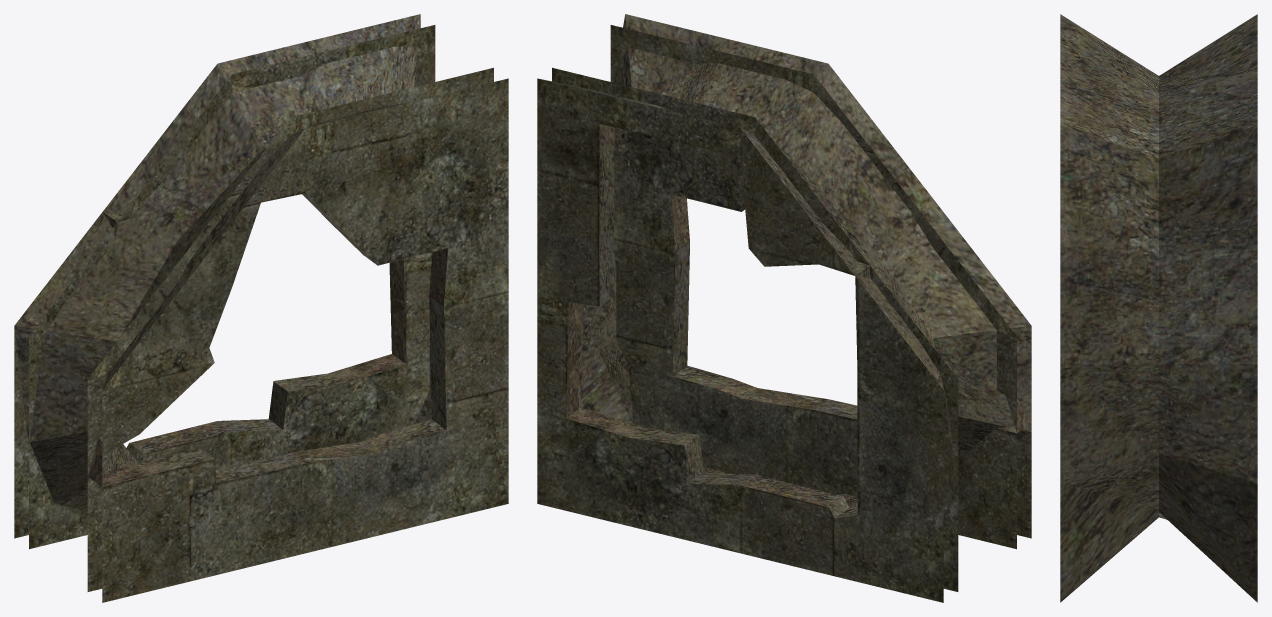
File: tdr_d_cavern_b.obj
3 renders of one model, left to right at view 1: azimuth 30°, elevation 25°; view 2: azimuth 150°, elevation 25°; view 3: azimuth 270°, elevation 25°, orthographic. The views are drawn at different scales.
Visible parts, largest first — view 1: Default_TRLE_Floor.000_Cube.012, Default_TRLE_Wall.002_Cube.006, Default_TRLE_Floor.003_Cube.002; view 2: Default_TRLE_Floor.003_Cube.002, Default_TRLE_Floor.000_Cube.012, Default_TRLE_Wall.002_Cube.006; view 3: Default_TRLE_Wall.002_Cube.006.
Boxes of the visible parts, box(x1,y1,x2,y2) form: Default_TRLE_Floor.000_Cube.012: box(87, 67, 508, 602); Default_TRLE_Wall.002_Cube.006: box(14, 14, 431, 511); Default_TRLE_Floor.003_Cube.002: box(14, 25, 435, 549); Default_TRLE_Floor.003_Cube.002: box(537, 67, 958, 602); Default_TRLE_Floor.000_Cube.012: box(610, 25, 1031, 549); Default_TRLE_Wall.002_Cube.006: box(540, 14, 1031, 519); Default_TRLE_Wall.002_Cube.006: box(1060, 14, 1257, 602).
Size of the model in its own units: 2048 by 2048 by 768.
2 materials, 2 textured.
